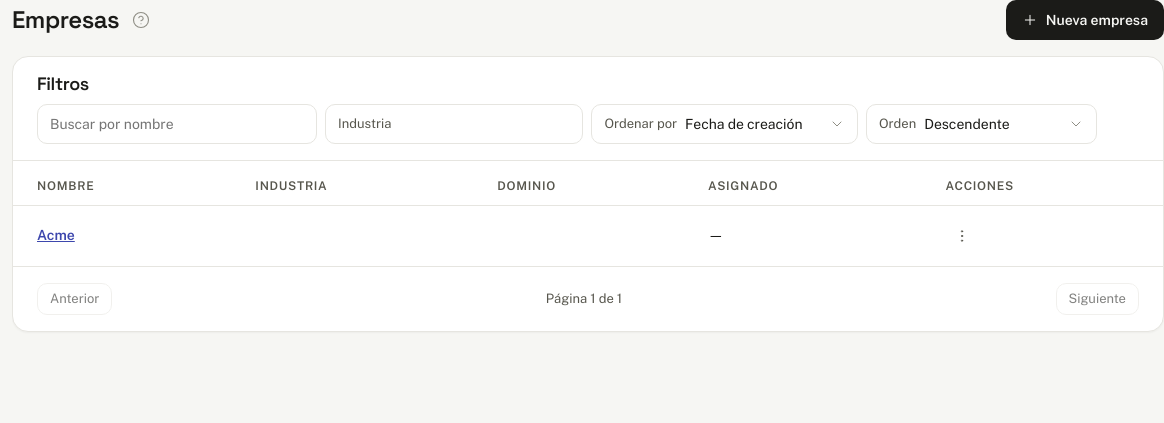
it: CompanyListPage › C.17 DELETE fallido muestra un error visible y accesible, sin ocultarlo
Expected: the link "Acme" is shown, x1=37 y1=227 x2=75 y2=243
Click the button named "Más acciones".
click(962, 236)  # box x1=946 y1=220 x2=978 y2=252
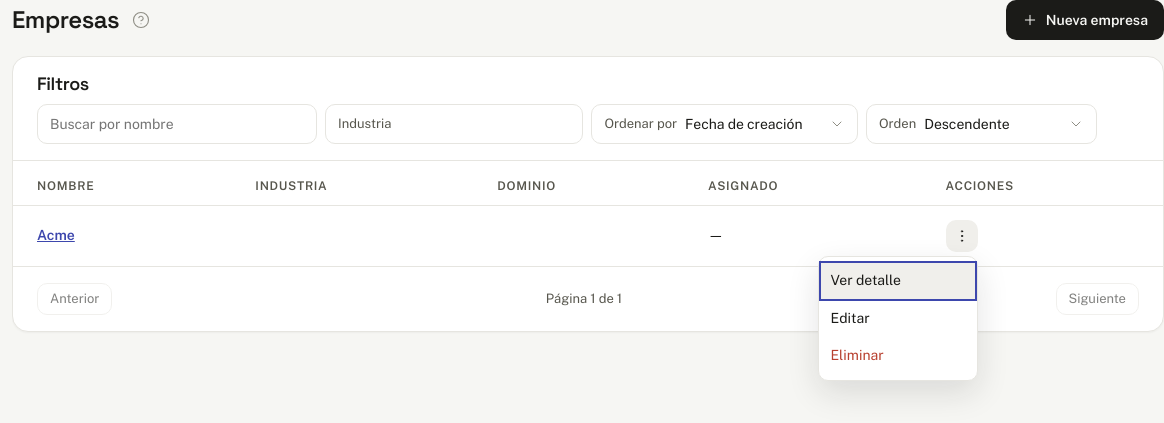
Click the menu item "Eliminar".
click(898, 356)  # box x1=819 y1=336 x2=977 y2=376
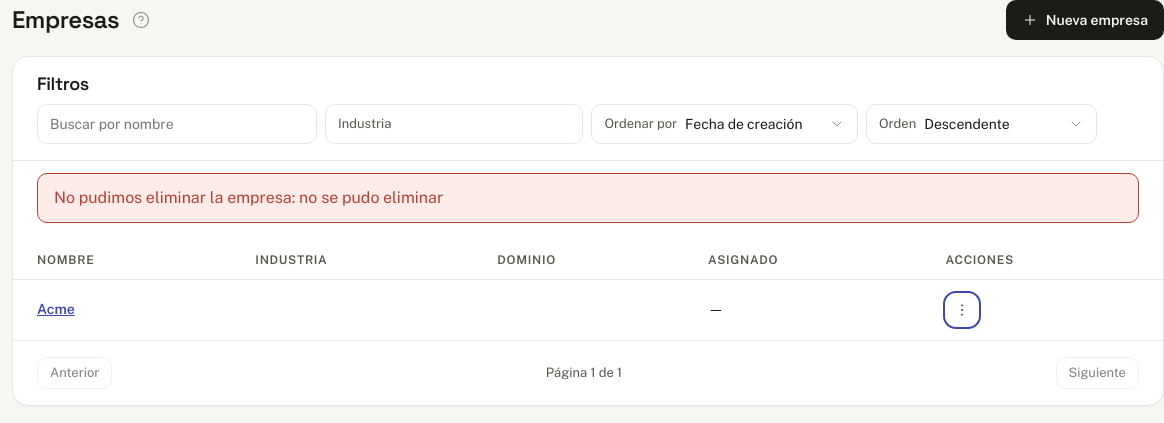
Result: the message shows "no se pudo eliminar" at x1=292 y1=188 x2=443 y2=206
